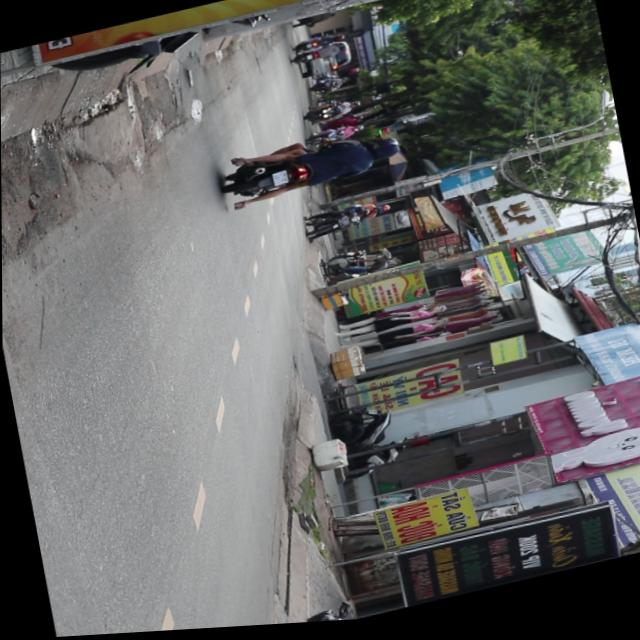helmet: (369, 145, 400, 167)
licenseplate: (216, 122, 405, 216)
nohelmet: (273, 173, 289, 188)
